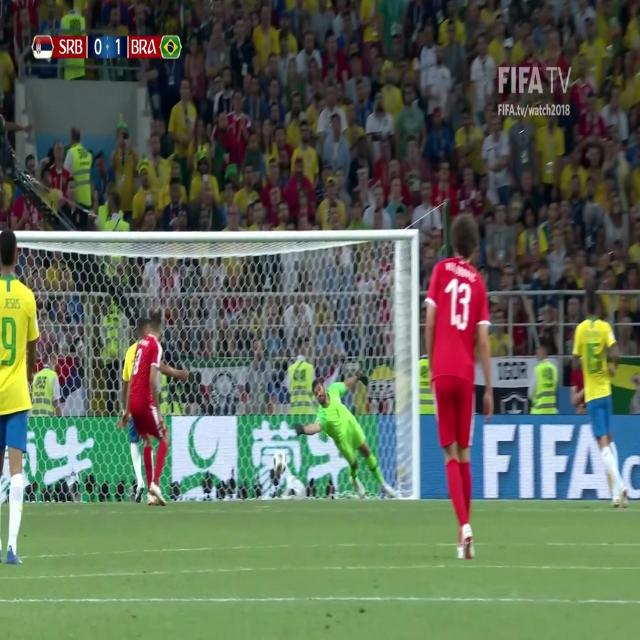ball: (269, 448, 287, 479)
player: (416, 213, 502, 565), (286, 351, 392, 502), (0, 215, 43, 568), (568, 289, 630, 512), (117, 307, 174, 509)
